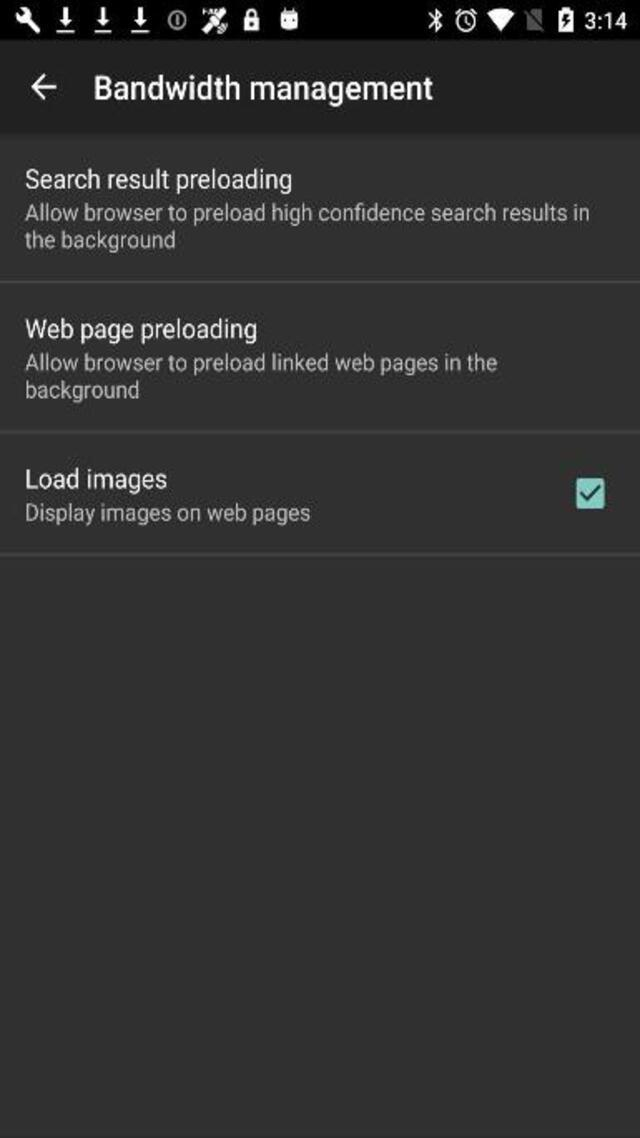CheckedTextView: (576, 478, 604, 508)
Icon: (29, 74, 56, 100)
Text: (26, 202, 590, 223), (22, 352, 501, 375), (96, 74, 433, 106), (24, 501, 312, 528), (25, 168, 291, 195), (24, 317, 259, 346), (24, 227, 180, 252), (23, 468, 169, 492), (22, 379, 145, 404)
